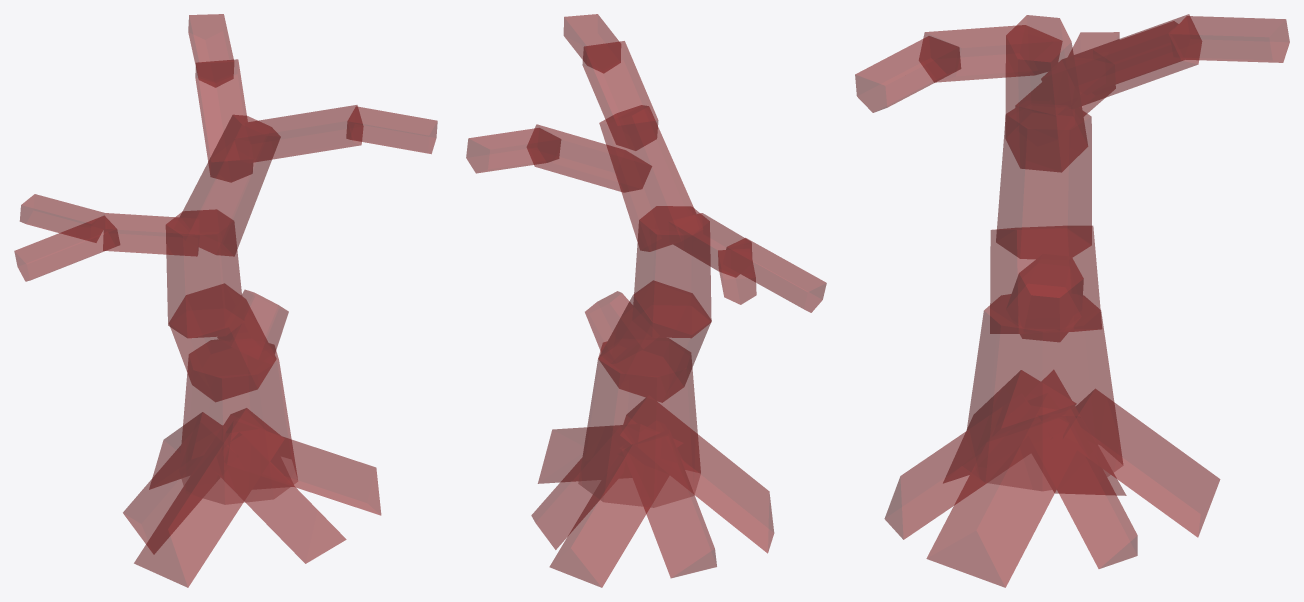
Rendered from SM_Env_Tree_Large_01_Collision.fbx.
The picture shows the model from 3 angles, left to right: view 1: azimuth 30°, elevation 25°; view 2: azimuth 150°, elevation 25°; view 3: azimuth 270°, elevation 25°; orthographic projection. The views are drawn at different scales.
Visible parts, largest first — view 1: SM_Env_Tree_Large_01_Collision; view 2: SM_Env_Tree_Large_01_Collision; view 3: SM_Env_Tree_Large_01_Collision.
Boxes of the visible parts, x1,y1,x2,y2 form: SM_Env_Tree_Large_01_Collision: [14, 14, 437, 587]; SM_Env_Tree_Large_01_Collision: [466, 14, 826, 587]; SM_Env_Tree_Large_01_Collision: [855, 14, 1289, 587].
Bounding box in the file's own units: 512 × 649 × 463.
